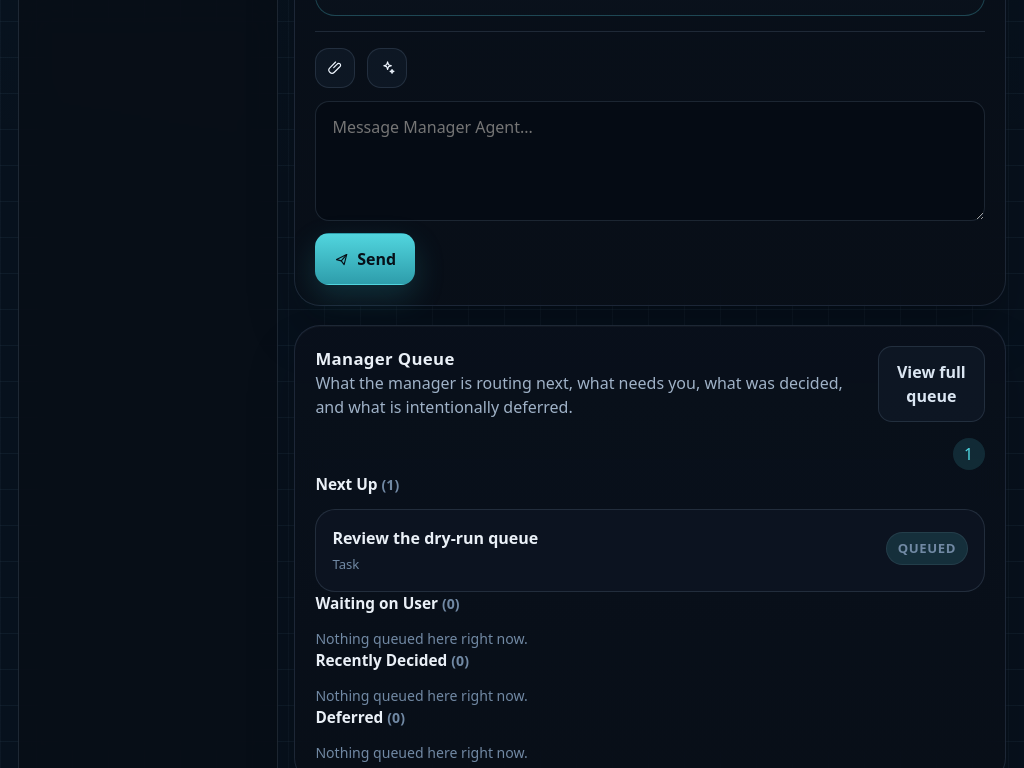
project workspace › opens the full queue drawer
This screenshot has width=1024, height=768.
(page scrolled)
What coordinates should you click on to do the following:
click the button "View full queue"
I would click on:
 (931, 384)
Its box is 878,346 -> 985,422.
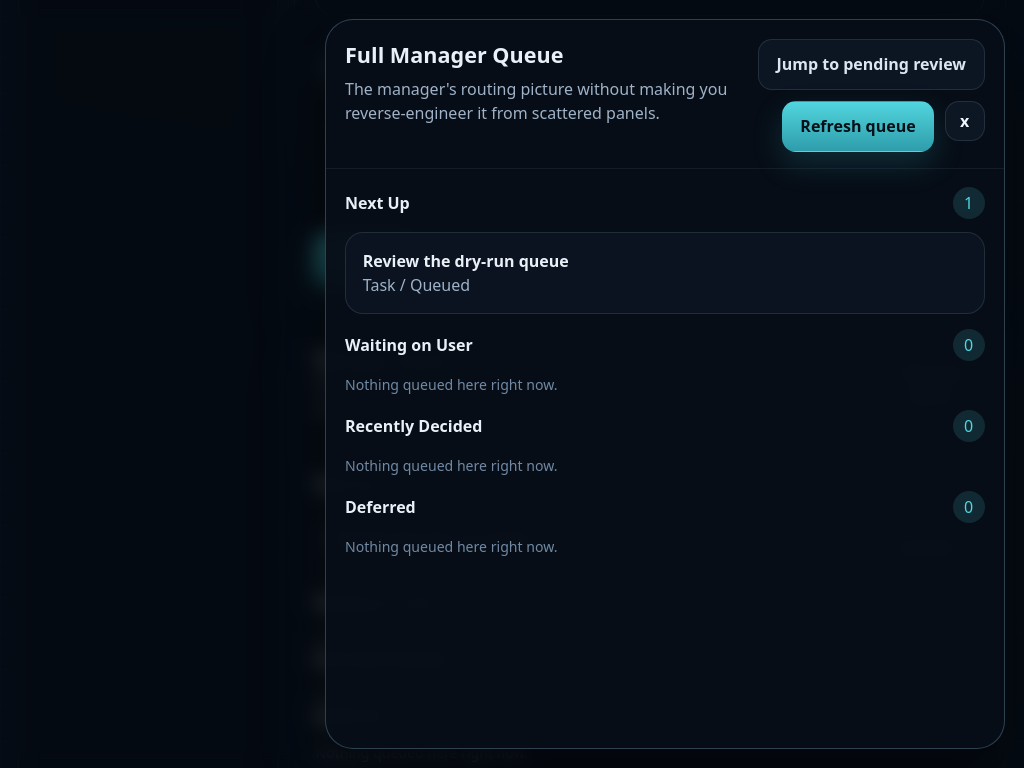
Check: the dialog "Full Manager Queue" is shown
Check: the text "The manager's routing picture without making you reverse-engineer it from scattered panels." is shown, box 345,78 -> 727,124
